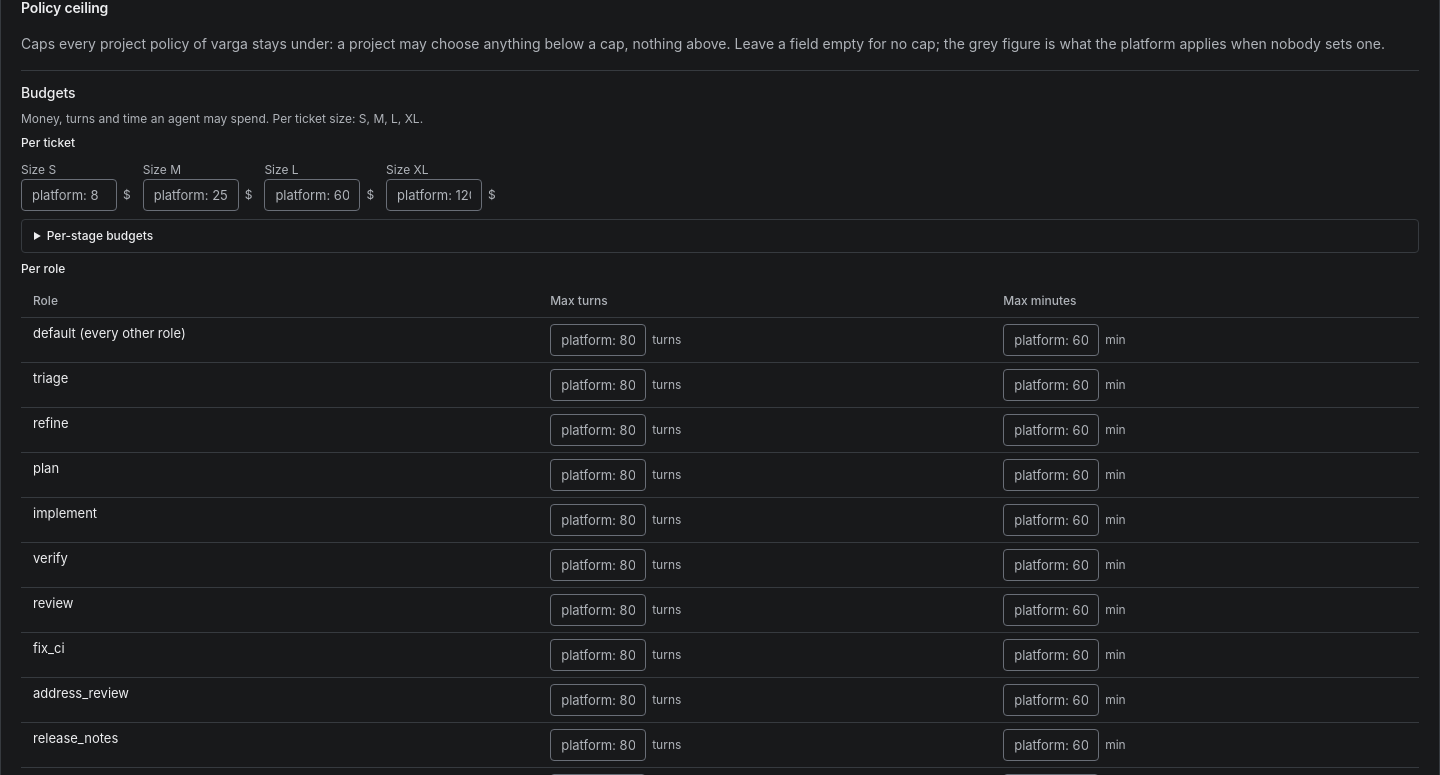
Test: the organisation's policy ceiling (S27-05) › puts a server 422 on the field it names
The image size is (1440, 775).
In the field named "Ticket budget M": (191, 195) [143, 179, 239, 211], type "9"
(page scrolled)
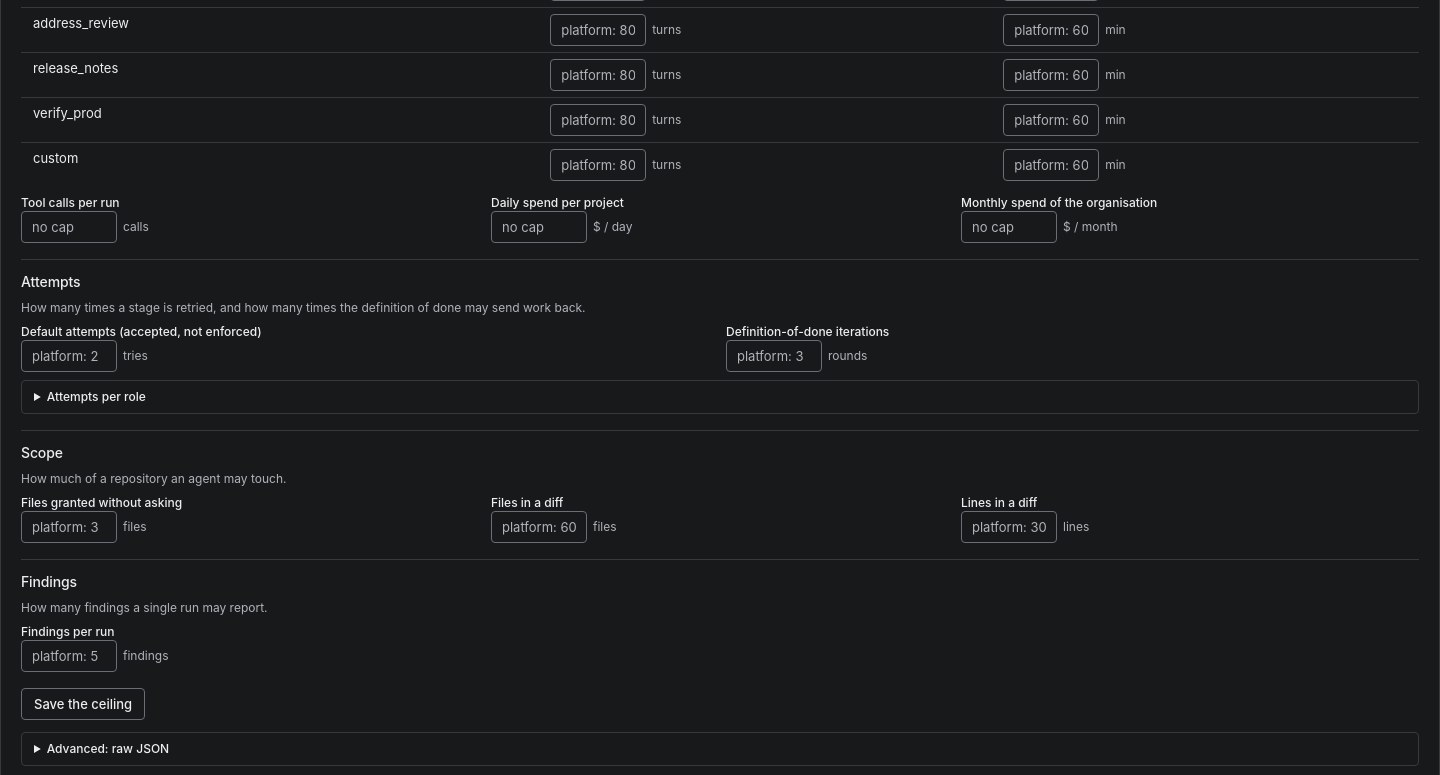
Click the button "Save the ceiling": (83, 704) [21, 688, 145, 720]
(page scrolled)
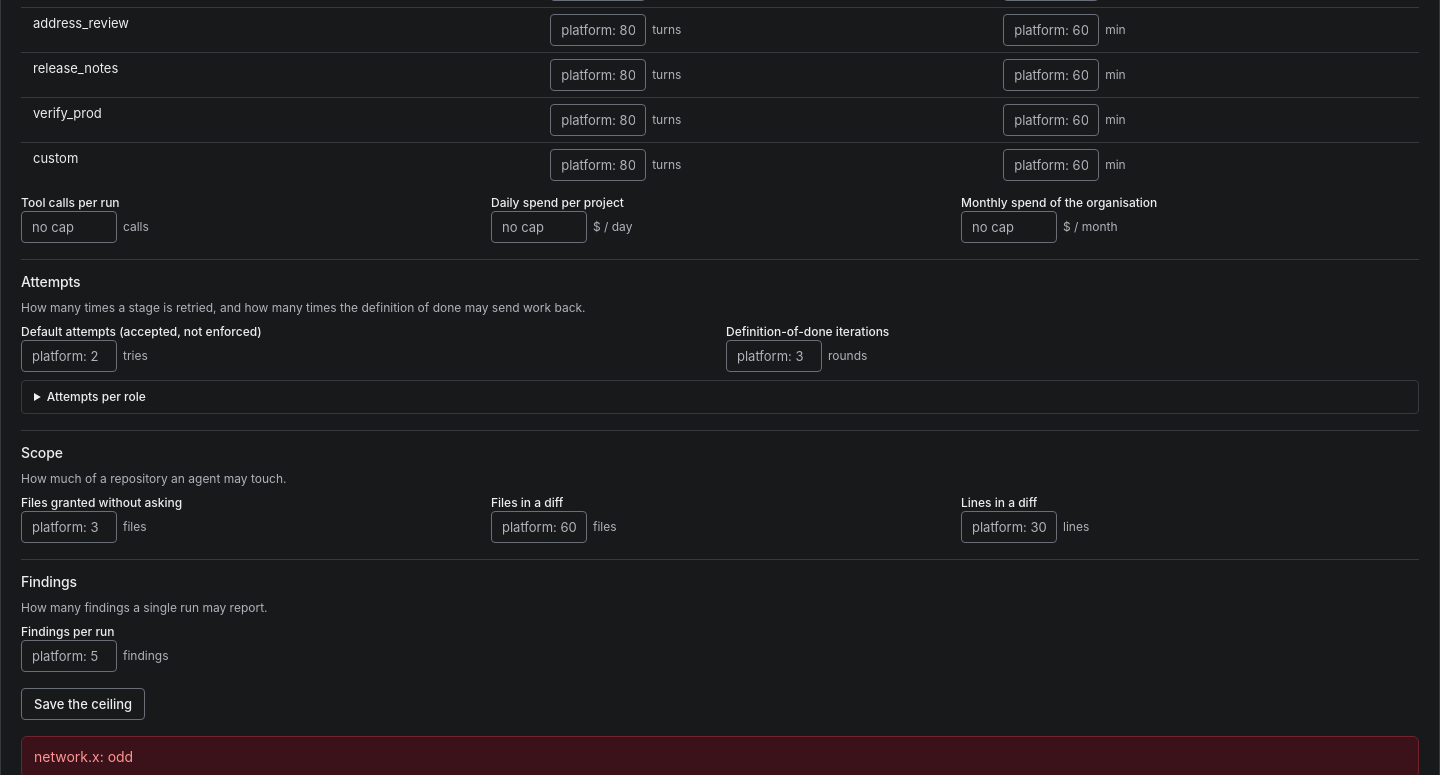
expect the text "network.x: odd" is shown: met, box [34, 748, 133, 765]
